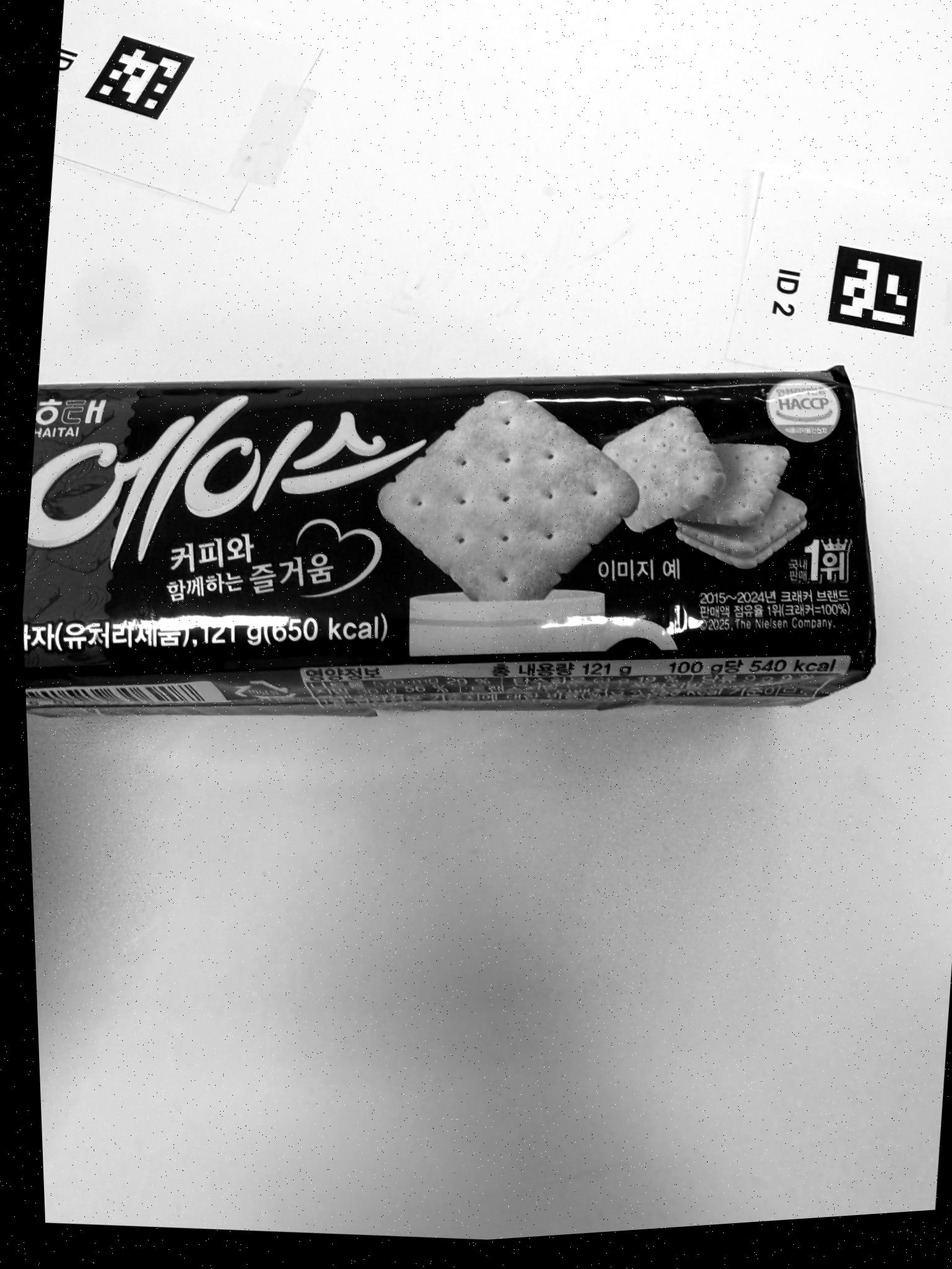cracker_ace: (23, 366, 875, 715)
